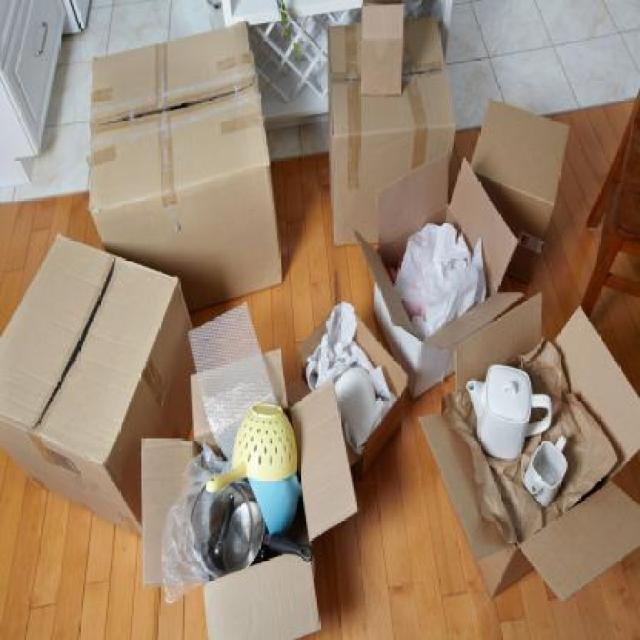box: (3, 234, 200, 538), (87, 17, 286, 315), (440, 305, 633, 599), (362, 170, 502, 398), (328, 25, 452, 248), (472, 96, 570, 286), (359, 0, 408, 94)
